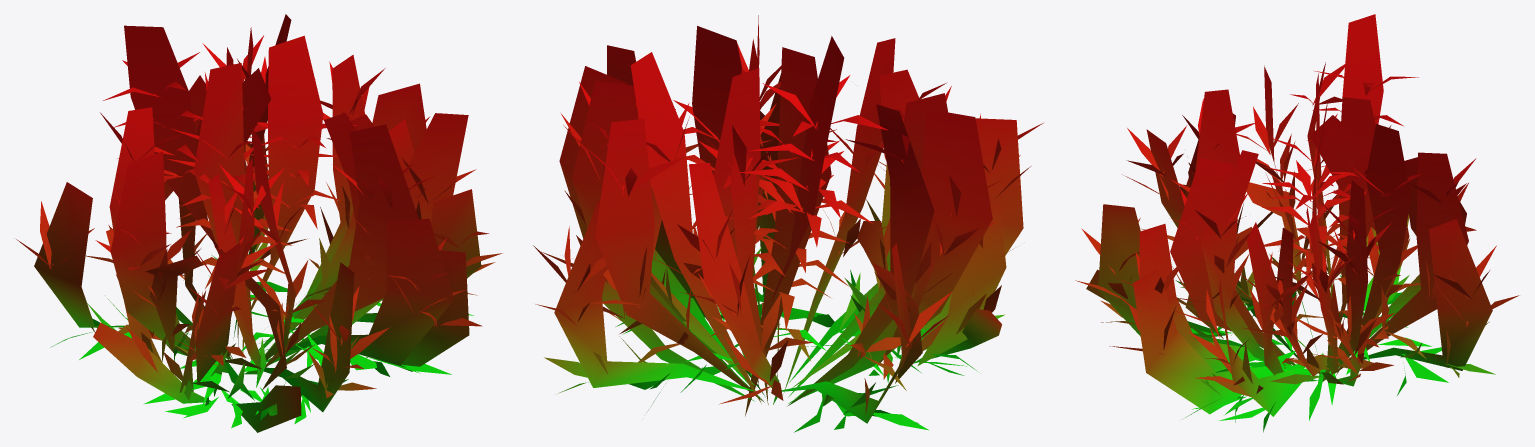
The model's file is Var7_LOD6.fbx.
The picture shows the model from 3 angles, left to right: view 1: azimuth 30°, elevation 25°; view 2: azimuth 150°, elevation 25°; view 3: azimuth 270°, elevation 25°; orthographic projection. The views are drawn at different scales.
Visible parts, largest first — view 1: _wuks_Var7_LOD6; view 2: _wuks_Var7_LOD6; view 3: _wuks_Var7_LOD6.
Boxes of the visible parts, <box> form: _wuks_Var7_LOD6: <box>16,14,502,432</box>; _wuks_Var7_LOD6: <box>533,15,1043,432</box>; _wuks_Var7_LOD6: <box>1075,14,1519,432</box>.
Size of the model in its own units: 35.36 by 30.63 by 36.77.
